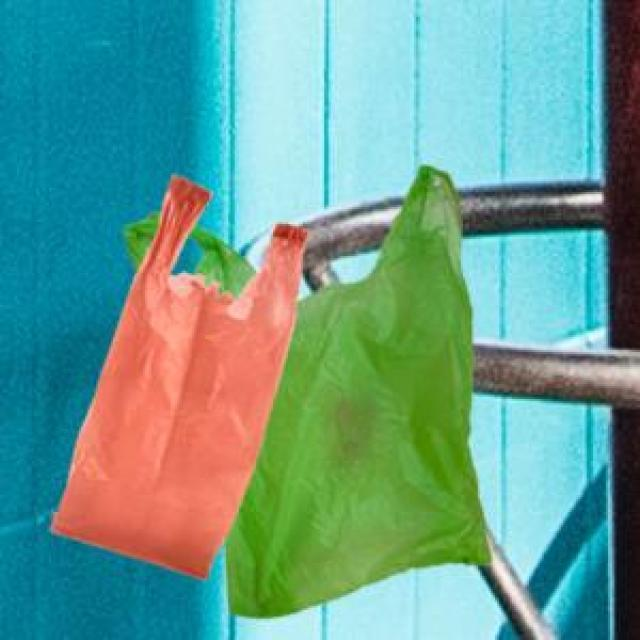Bolsa-de-nilon: (222, 166, 553, 640)
